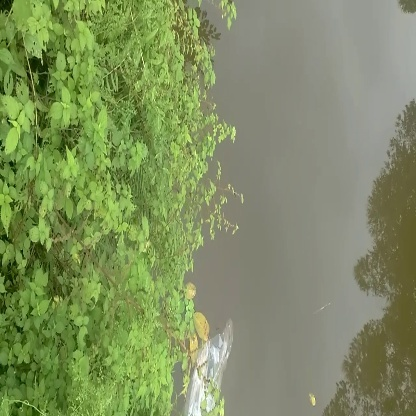plastic-bag: (186, 320, 242, 416)
